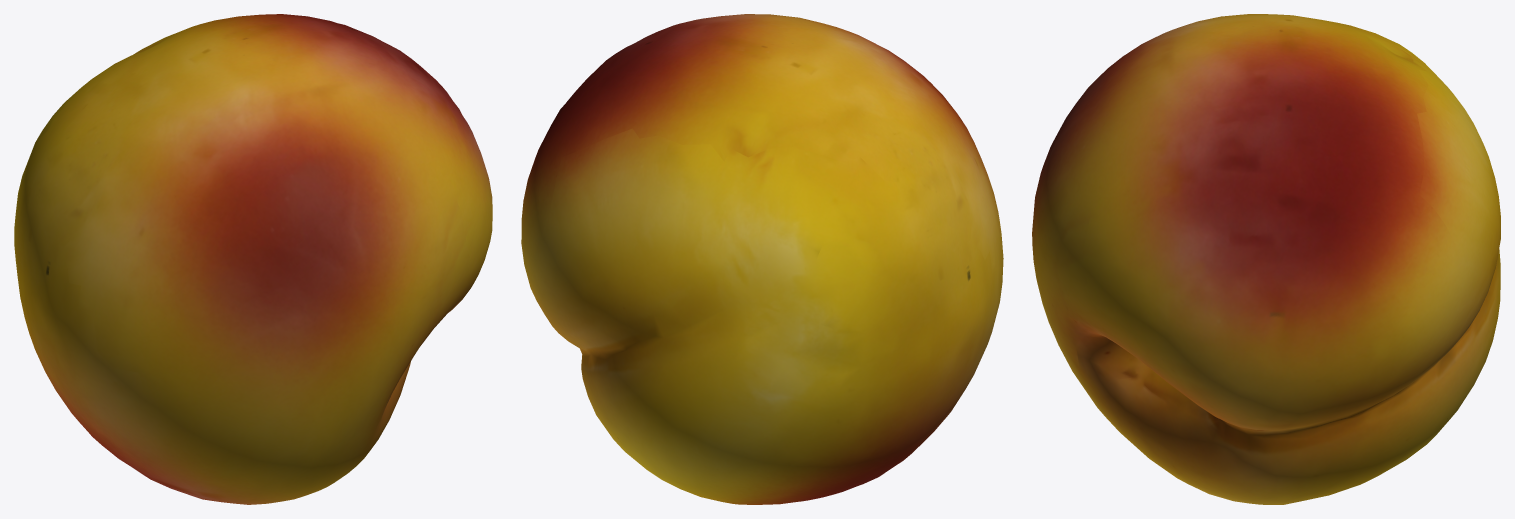
3 renders of one model, left to right at view 1: azimuth 30°, elevation 25°; view 2: azimuth 150°, elevation 25°; view 3: azimuth 270°, elevation 25°, orthographic. The views are drawn at different scales.
Visible parts, largest first — view 1: textured.028; view 2: textured.028; view 3: textured.028.
Boxes of the visible parts, bbox=[...] form: textured.028: bbox=[14, 14, 492, 504]; textured.028: bbox=[521, 14, 1003, 504]; textured.028: bbox=[1032, 14, 1500, 504].
Bounding box in the file's own units: 0.0622 × 0.0626 × 0.0586.
1 material, 1 textured.
